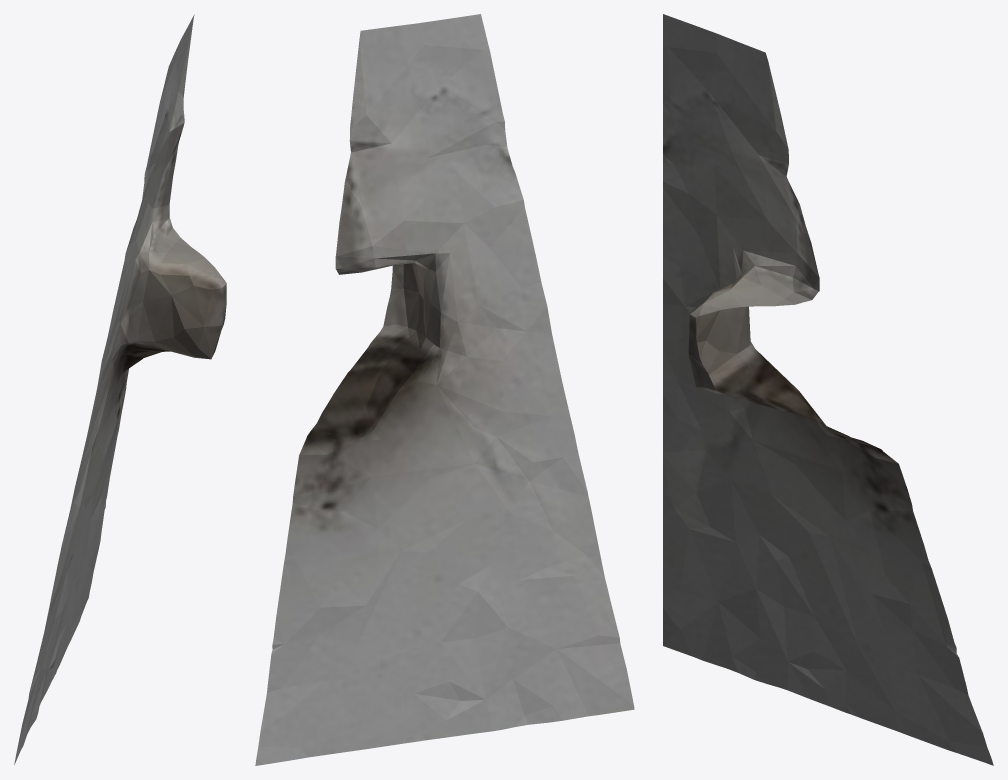
The picture shows the model from 3 angles, left to right: view 1: azimuth 30°, elevation 25°; view 2: azimuth 150°, elevation 25°; view 3: azimuth 270°, elevation 25°; orthographic projection. The views are drawn at different scales.
Size of the model in its own units: 0.3019 by 0.8373 by 0.3518.
1 material, 1 textured.
